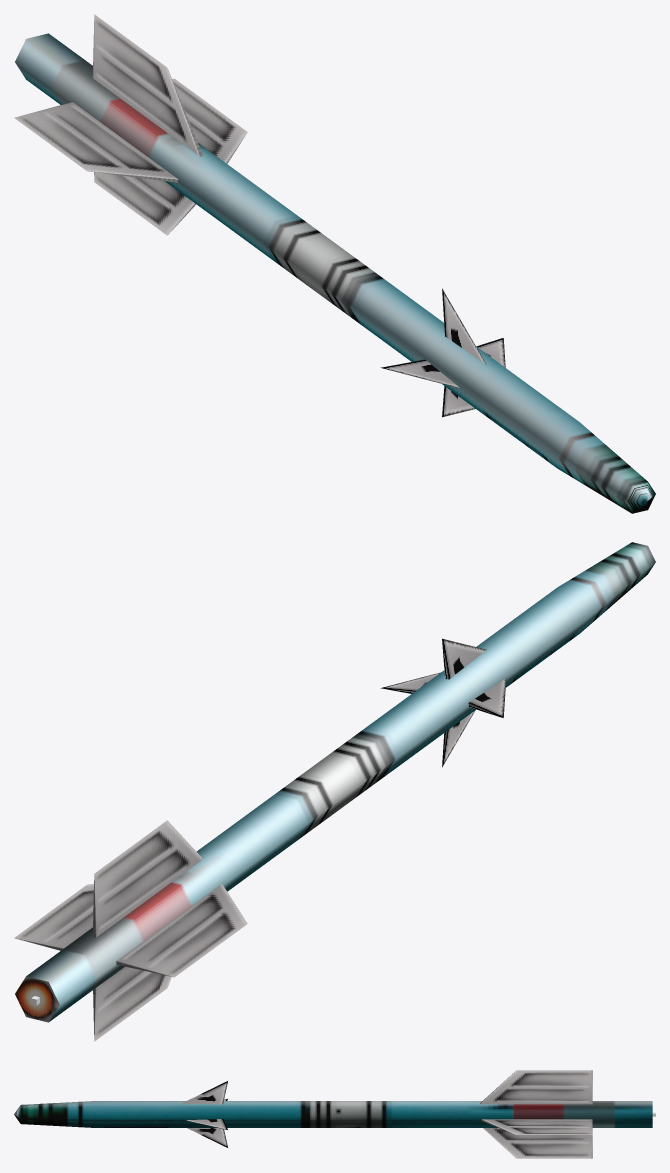
Rendered from mis01.obj.
3 renders of one model, top to bottom at view 1: azimuth 30°, elevation 25°; view 2: azimuth 150°, elevation 25°; view 3: azimuth 270°, elevation 25°, orthographic. The views are drawn at different scales.
Visible parts, largest first — view 1: frm-main_body, frm-rear_fin5, frm-rear_fin6, frm-rear_fin7, frm-rear_fin5_1, frm-frontfin4, frm-frontfin5; view 2: frm-main_body, frm-rear_fin5, frm-rear_fin6, frm-rear_fin7, frm-rear_fin5_1, frm-frontfin4, frm-frontfin5; view 3: frm-main_body, frm-rear_fin5, frm-rear_fin7, frm-rear_fin5_1, frm-frontfin4, frm-frontfin7, frm-frontfin4_1.
Part boxes in pixels (x1,y1,x2,y2): frm-main_body: (15, 33, 655, 513); frm-rear_fin5: (92, 14, 202, 156); frm-rear_fin6: (14, 102, 178, 182); frm-rear_fin7: (94, 172, 196, 235); frm-rear_fin5_1: (172, 78, 247, 163); frm-frontfin4: (442, 288, 486, 364); frm-frontfin5: (380, 359, 460, 388); frm-main_body: (15, 542, 655, 1022); frm-rear_fin5: (92, 820, 202, 937); frm-rear_fin6: (116, 884, 247, 977); frm-rear_fin7: (93, 966, 171, 1041); frm-rear_fin5_1: (14, 884, 93, 950); frm-frontfin4: (442, 638, 486, 679); frm-frontfin5: (468, 678, 506, 717); frm-main_body: (14, 1101, 652, 1127); frm-rear_fin5: (480, 1070, 592, 1104); frm-rear_fin7: (483, 1128, 592, 1158); frm-rear_fin5_1: (481, 1119, 592, 1134); frm-frontfin4: (182, 1081, 227, 1104); frm-frontfin7: (187, 1128, 227, 1147); frm-frontfin4_1: (185, 1119, 227, 1129).
Size of the model in its own units: 1.73 by 1.73 by 11.41.
